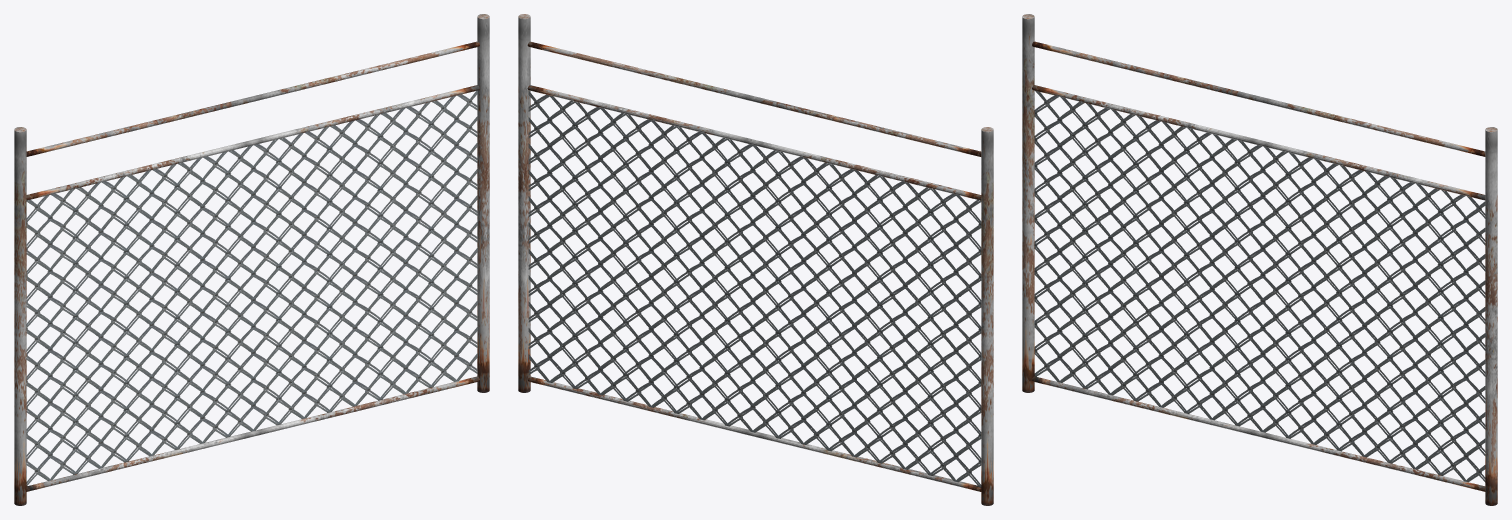
File: Fence1_HP.fbx
3 views of the same model, side by side, from view 1: azimuth 30°, elevation 25°; view 2: azimuth 150°, elevation 25°; view 3: azimuth 330°, elevation 25° (orthographic).
Parts seen in each view (by area): view 1: Fence1; view 2: Fence1; view 3: Fence1.
Boxes of the visible parts, x1,y1,x2,y2 form: Fence1: [14, 14, 489, 505]; Fence1: [518, 14, 993, 505]; Fence1: [1022, 14, 1497, 505].
Bounding box in the file's own units: 122 × 92.25 × 2.79.
2 materials, 2 textured.
